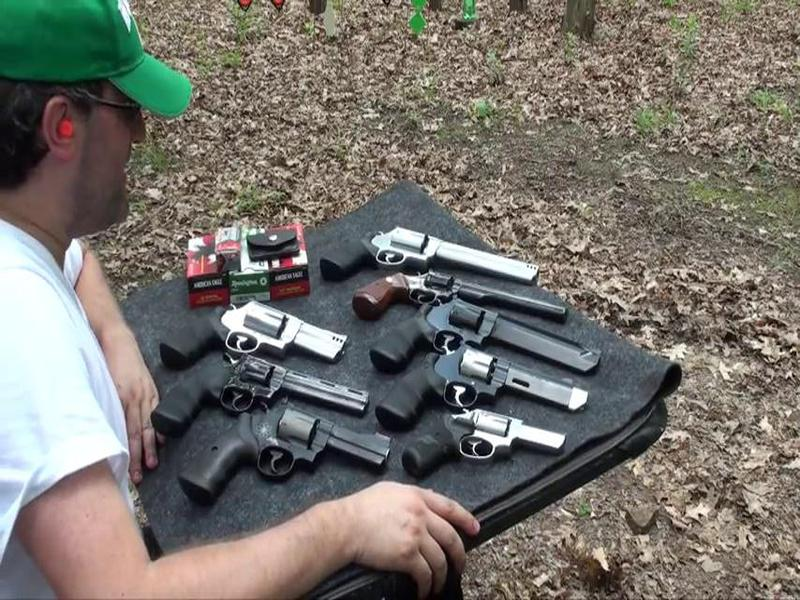Revolver: (158, 282, 352, 376)
